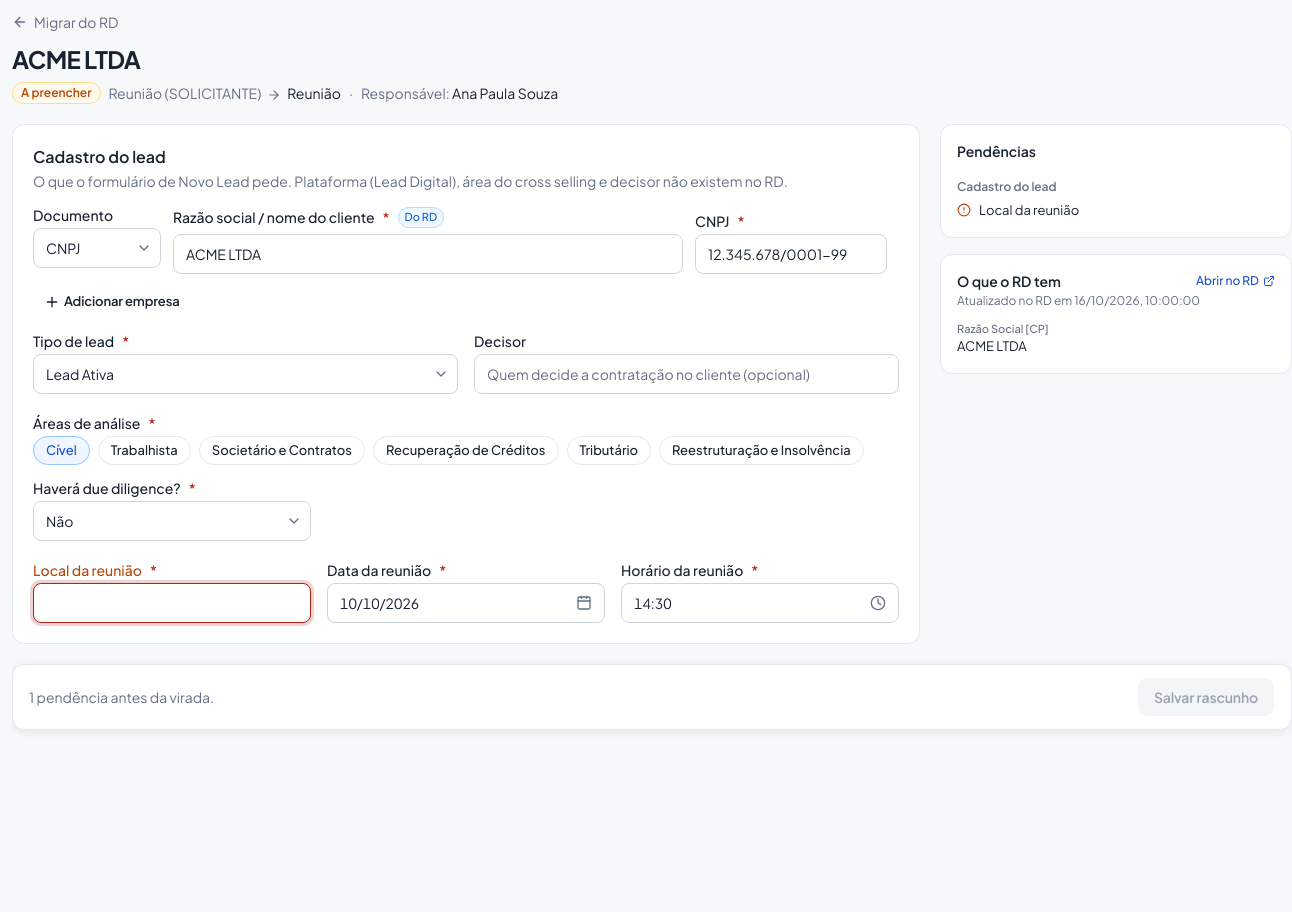
mostra a pendência, some ao preencher e salva o rascunho
Expected: the text "Local da reunião" is shown, [979, 201, 1079, 220]
Expected: the text "1 pendência antes da virada." is shown, [29, 687, 214, 707]
In the field labelled "Local da reunião *": (172, 603) [33, 583, 311, 623], type "Escritório Campinas"
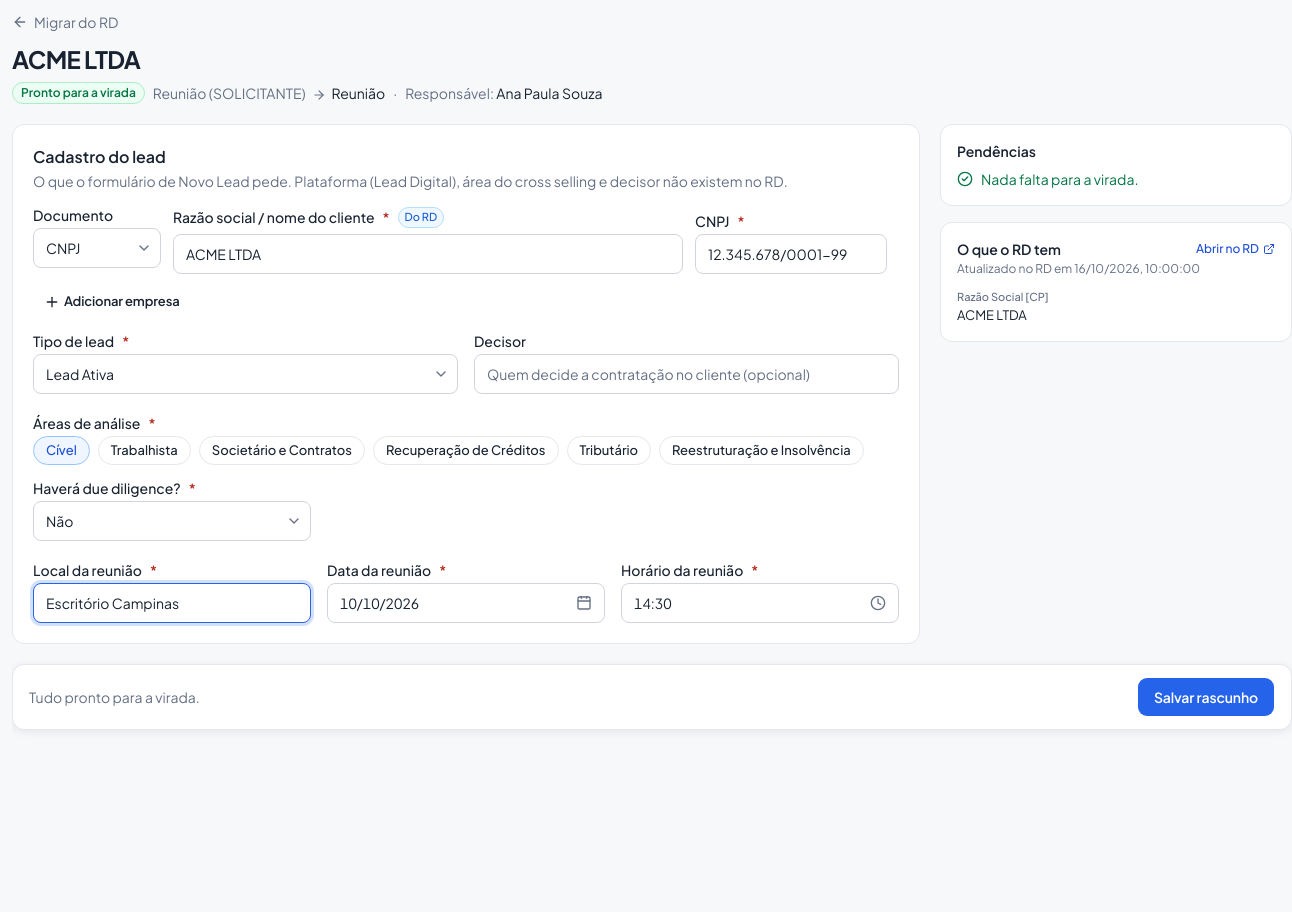
Now the text "Nada falta para a virada." is shown, box [957, 170, 1138, 188]
Now the text "Tudo pronto para a virada." is shown, box [29, 687, 200, 707]
Click the button "Salvar rascunho": (1206, 697) [1137, 677, 1275, 717]
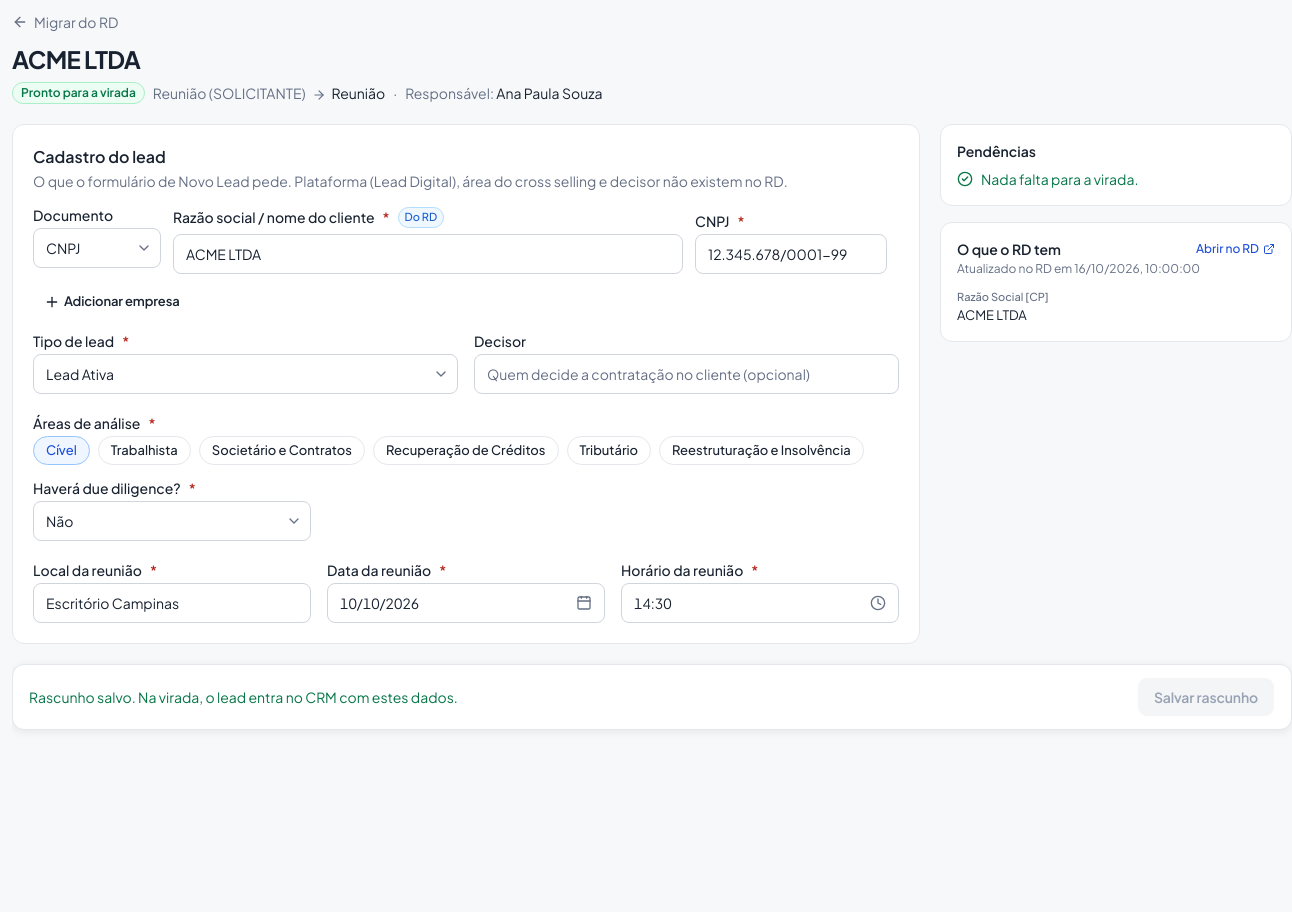
Now the text "Rascunho salvo. Na virada, o lead entra no CRM com estes dados." is shown, box [29, 687, 458, 707]
